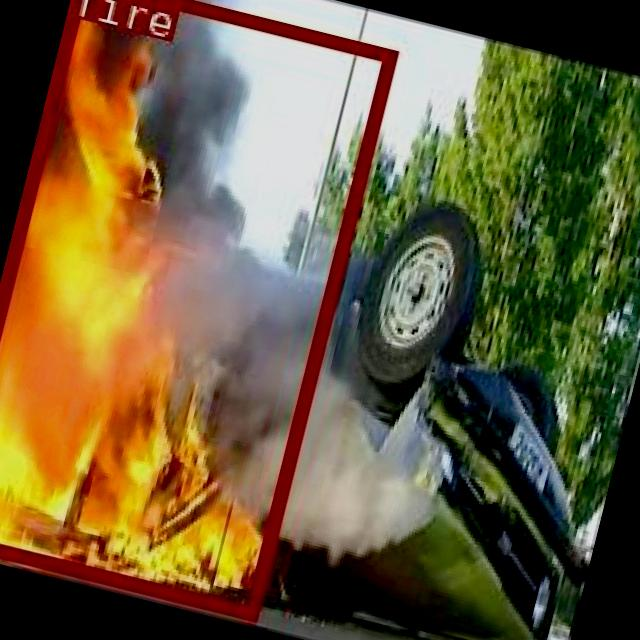fire: (0, 0, 394, 616)
